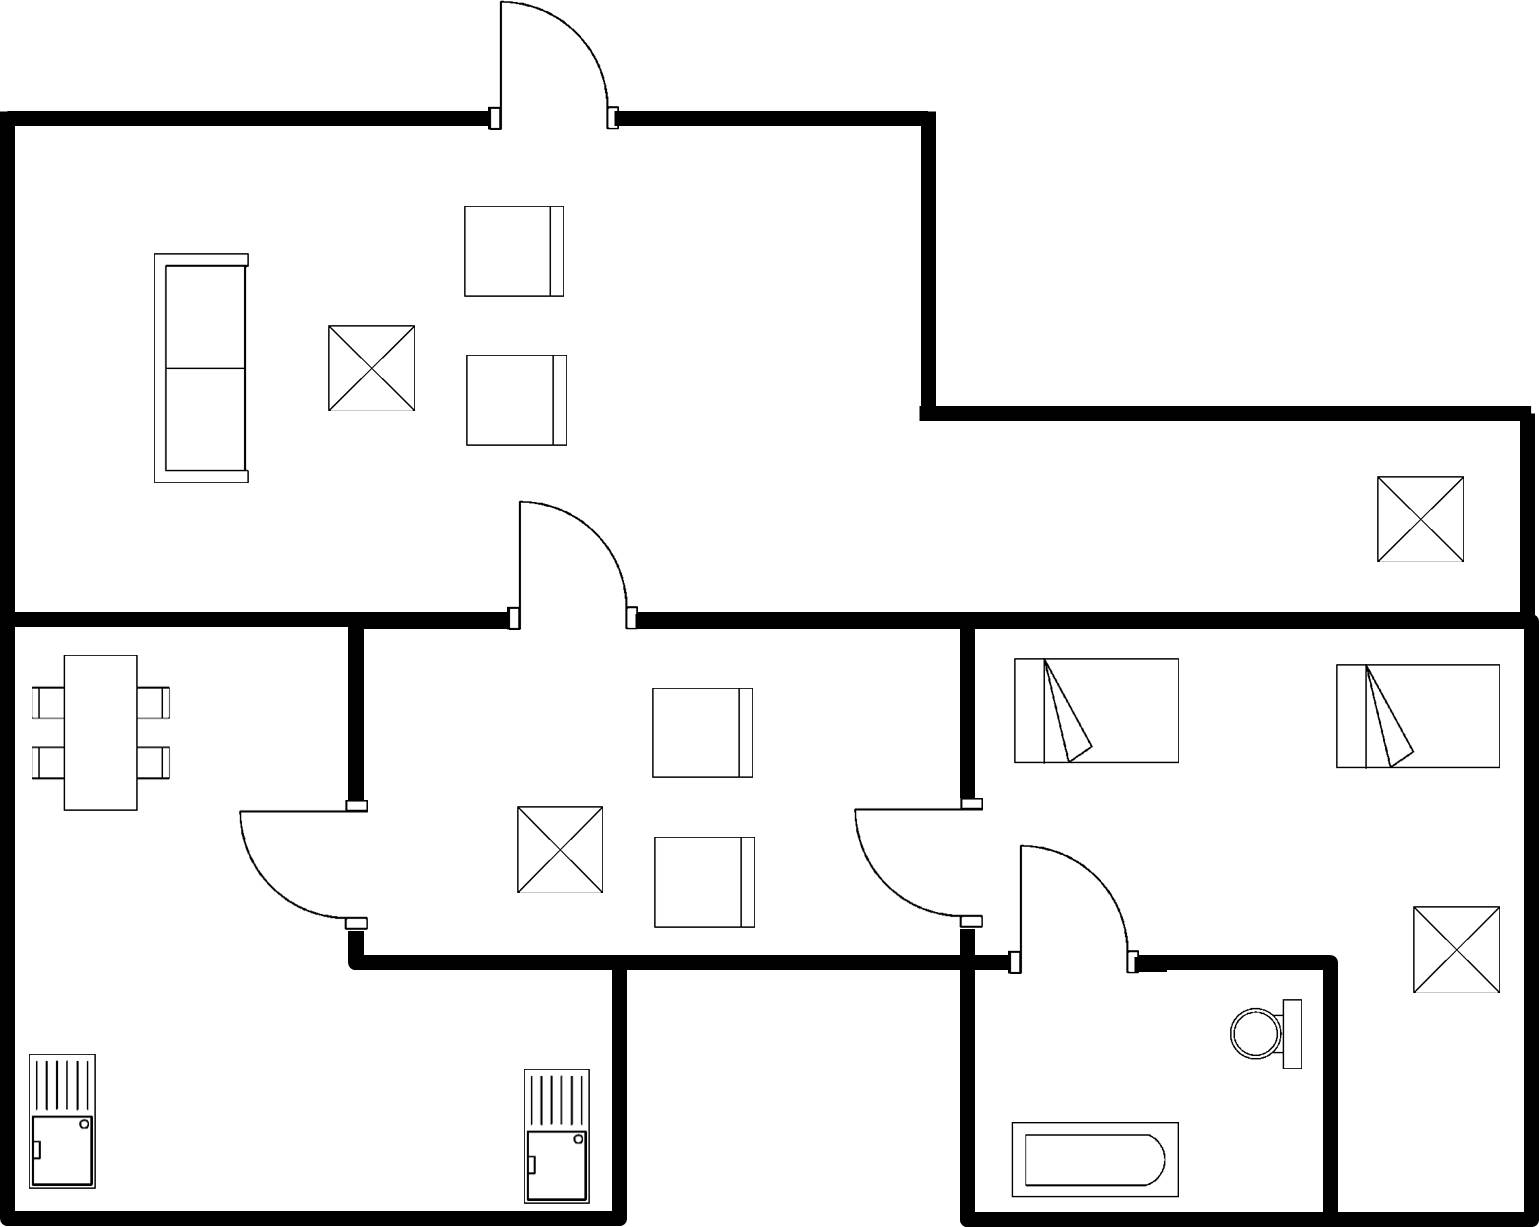bed: (1005, 645, 1191, 775), (1324, 657, 1509, 778), (1366, 468, 1477, 569)
coffee_table: (317, 314, 430, 425), (504, 797, 611, 907), (1401, 894, 1509, 999), (1368, 469, 1474, 573)
dining_table: (26, 647, 182, 825)
large_sink: (1224, 989, 1315, 1079)
large_sofa: (141, 241, 257, 493)
sink: (21, 1043, 109, 1200), (515, 1059, 599, 1212)
small_sofa: (451, 194, 572, 310), (455, 347, 576, 456), (645, 679, 764, 787), (646, 829, 766, 937)
tub: (998, 1116, 1190, 1205)
